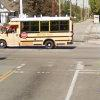Bus: (8, 14, 77, 50)
